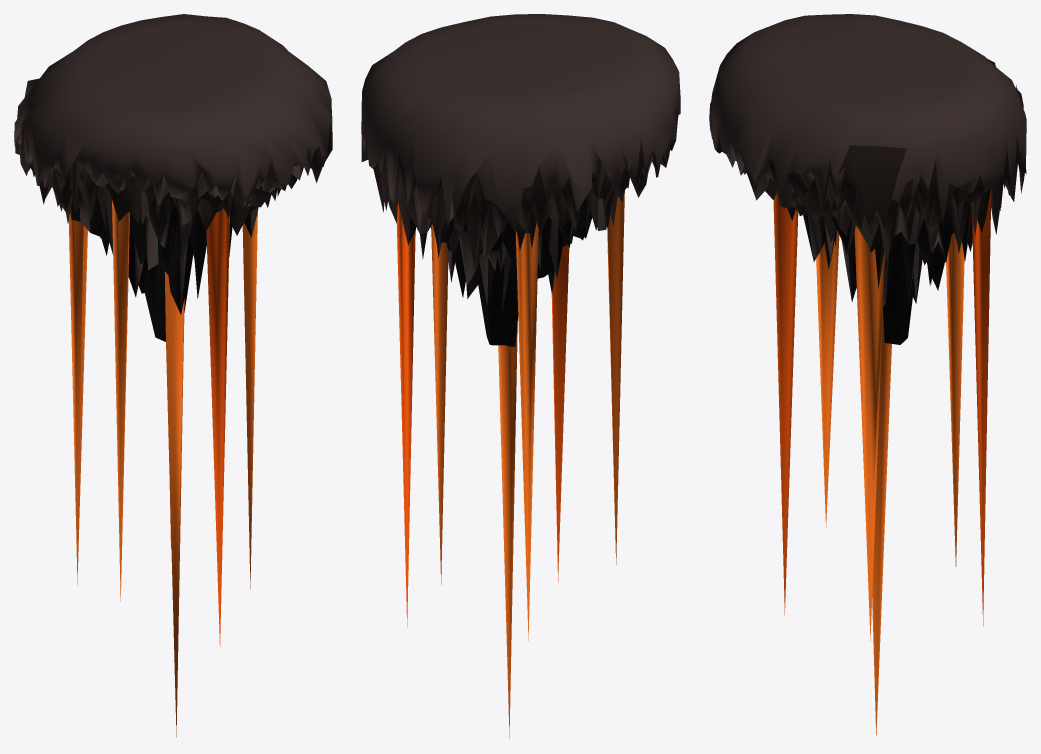
Rendered from Island.fbx.
3 renders of one model, left to right at view 1: azimuth 30°, elevation 25°; view 2: azimuth 150°, elevation 25°; view 3: azimuth 270°, elevation 25°, orthographic.
Parts seen in each view (by area): view 1: Island; view 2: Island; view 3: Island.
Part boxes in pixels (x1,y1,x2,y2): Island: (14, 14, 332, 737); Island: (361, 14, 680, 738); Island: (709, 14, 1026, 735).
Bounding box in the file's own units: 1995 × 4695 × 2000.
